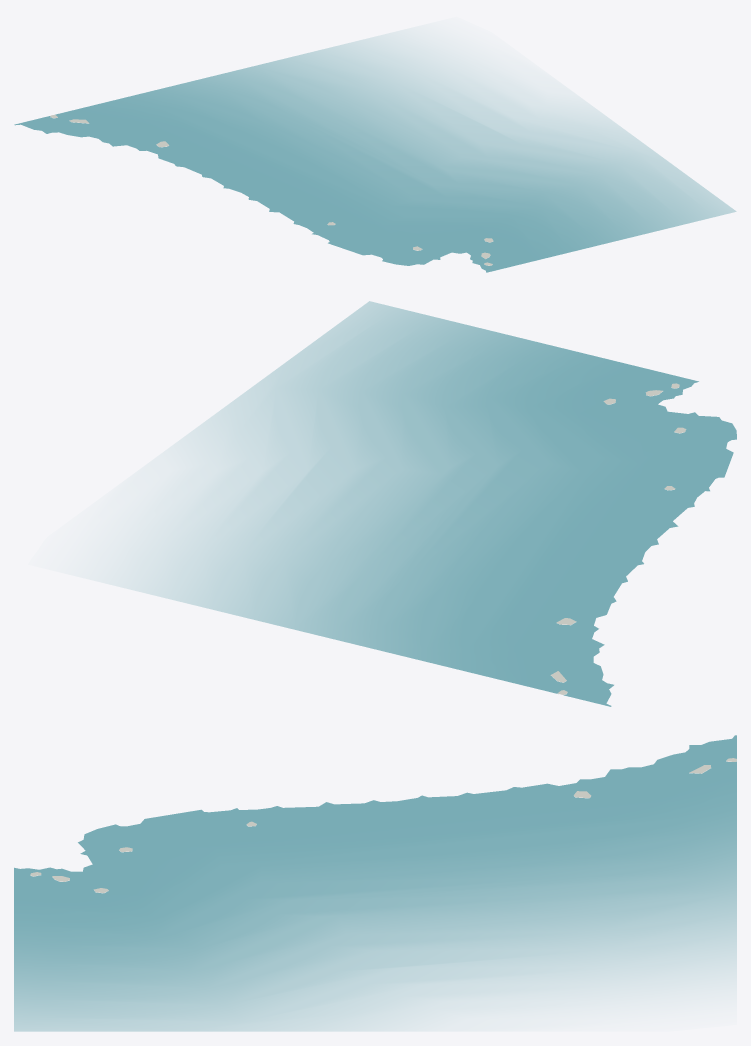
3 views of the same model, one above another, from view 1: azimuth 30°, elevation 25°; view 2: azimuth 150°, elevation 25°; view 3: azimuth 270°, elevation 25° (orthographic). The views are drawn at different scales.
Parts seen in each view (by area): view 1: city; view 2: city; view 3: city.
Part boxes in pixels (x1,y1,x2,y2): city: (14, 31, 736, 272); city: (105, 301, 736, 706); city: (14, 735, 736, 1031).
Size of the model in its own units: 485 by 0.18 by 500.
